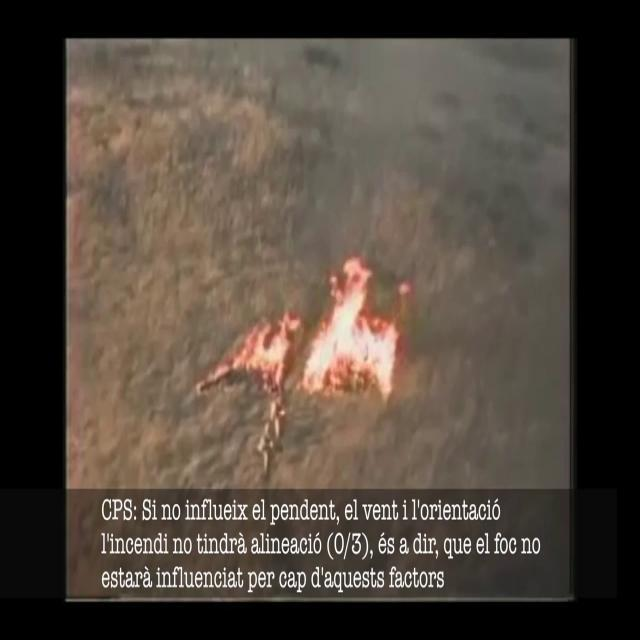Fire: (235, 248, 410, 470)
